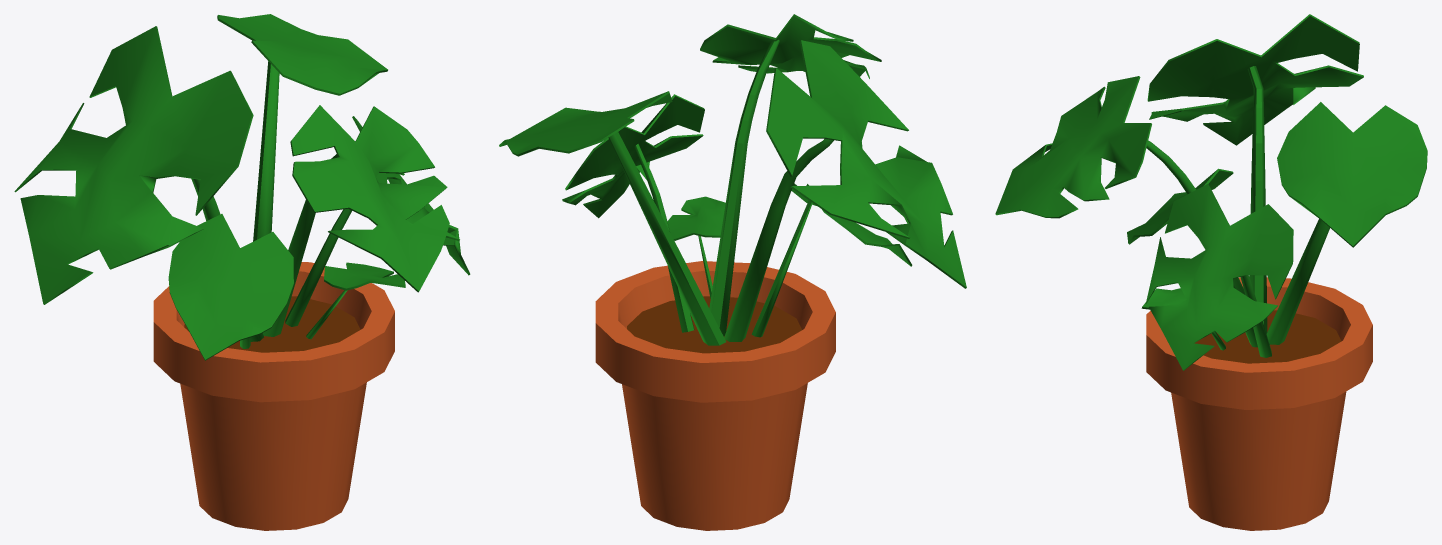
File: PotPlantMedium.fbx
3 renders of one model, left to right at view 1: azimuth 30°, elevation 25°; view 2: azimuth 150°, elevation 25°; view 3: azimuth 270°, elevation 25°, orthographic. The views are drawn at different scales.
Visible parts, largest first — view 1: Plane.008, Dirt.001; view 2: Plane.008, Dirt.001; view 3: Plane.008, Dirt.001.
Part boxes in pixels (<box>): Plane.008: <box>14,14,470,360</box>; Dirt.001: <box>153,262,394,530</box>; Plane.008: <box>499,14,966,345</box>; Dirt.001: <box>595,261,835,530</box>; Plane.008: <box>995,14,1427,370</box>; Dirt.001: <box>1146,277,1372,530</box>.
Bounding box in the file's own units: 190 × 211 × 186.
